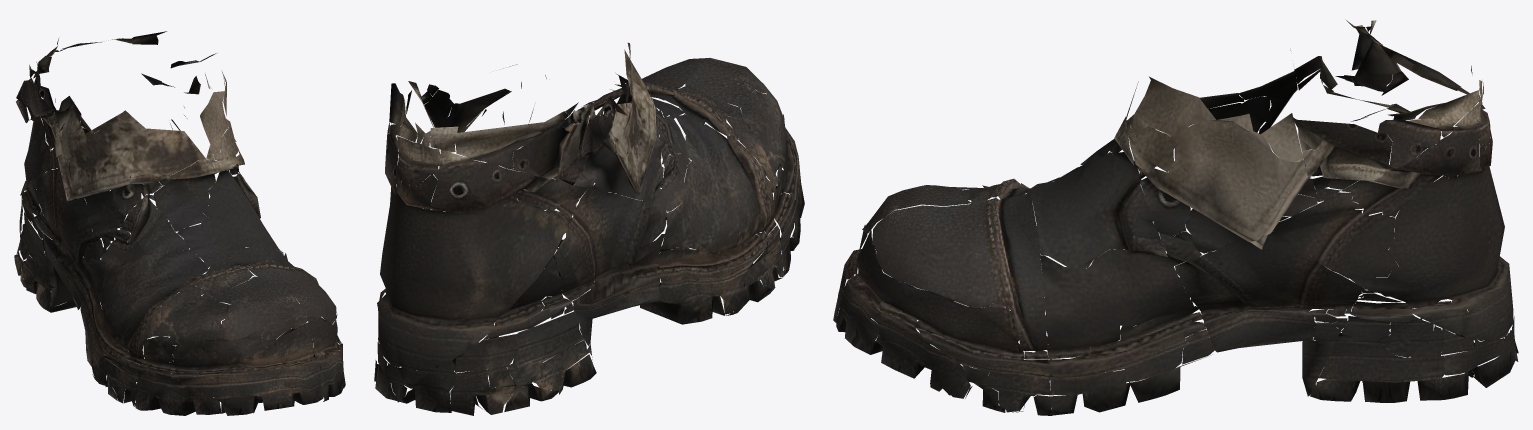
File: a_ward_boots_foot.glb
3 views of the same model, side by side, from view 1: azimuth 30°, elevation 25°; view 2: azimuth 150°, elevation 25°; view 3: azimuth 270°, elevation 25° (orthographic). The views are drawn at different scales.
Parts seen in each view (by area): view 1: tripo_node_66716165-d177-4658-8bea-9631f10389fa; view 2: tripo_node_66716165-d177-4658-8bea-9631f10389fa; view 3: tripo_node_66716165-d177-4658-8bea-9631f10389fa.
Boxes of the visible parts, x1=… form: tripo_node_66716165-d177-4658-8bea-9631f10389fa: x1=14, y1=31, x2=345, y2=415; tripo_node_66716165-d177-4658-8bea-9631f10389fa: x1=374, y1=42, x2=804, y2=415; tripo_node_66716165-d177-4658-8bea-9631f10389fa: x1=833, y1=20, x2=1518, y2=415.
Bounding box in the file's own units: 0.1545 × 0.1799 × 0.3693.
Materials: 1 (1 with a texture image).
